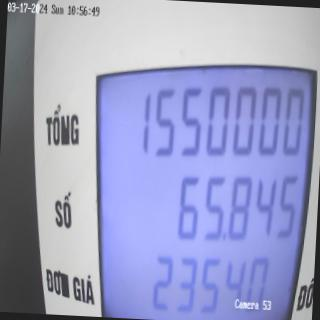screen: (80, 43, 320, 320)
